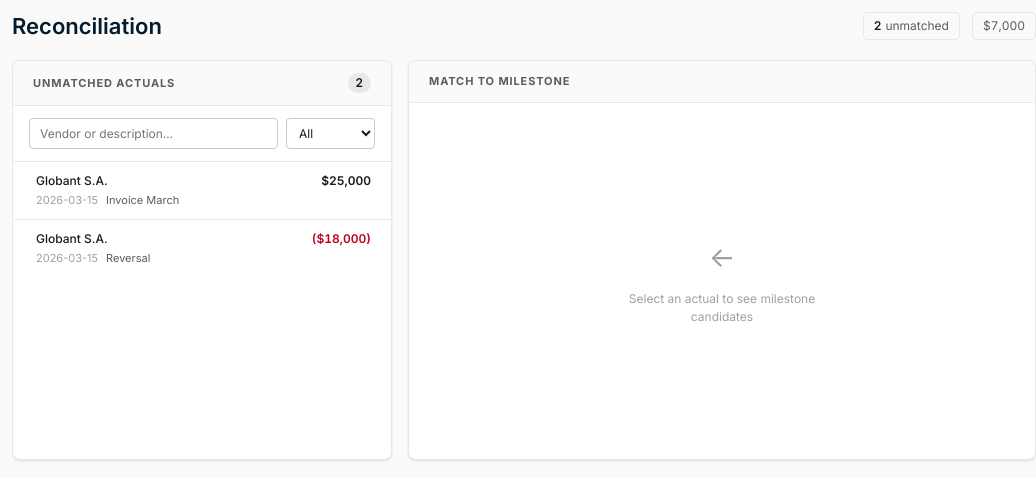
Test: ReconcileWorkspace › filters actuals by amount sign
The image size is (1036, 478).
Expected: the text "Invoice March" is shown, [106,192,179,208]
Select "Positive" in the dropdown named "amount filter" at (330, 134), box [286,118,375,149]
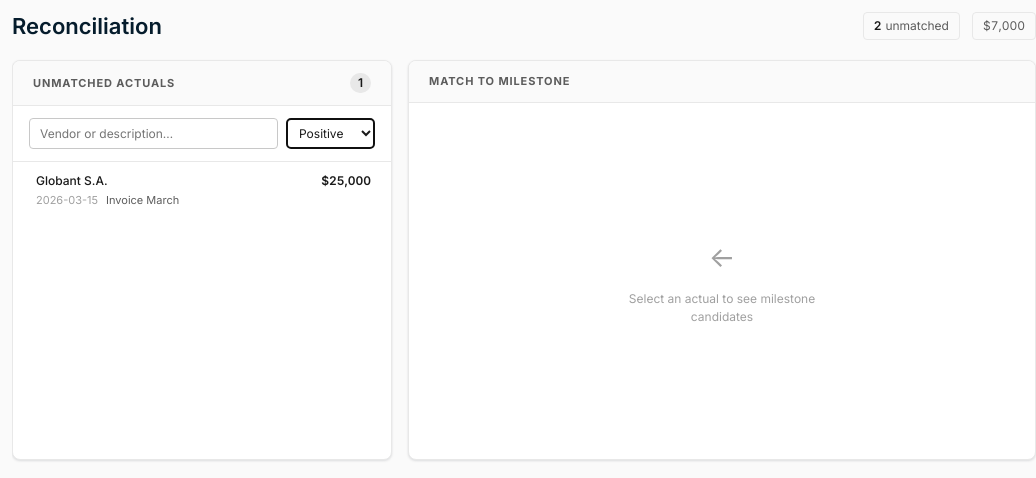
Expected: the text "Invoice March" is shown, [106,192,179,208]
Now the button "Reversal" is gone
